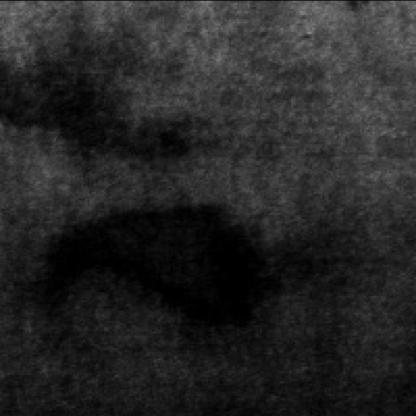patches: (33, 202, 310, 347), (4, 54, 206, 171)
